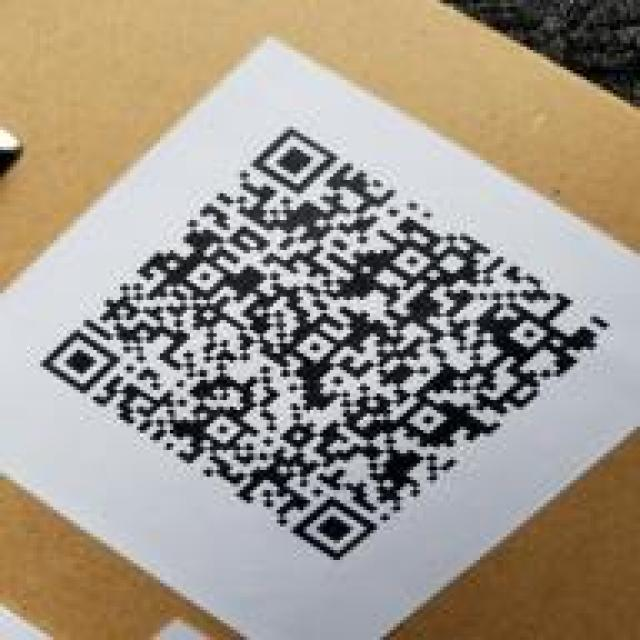QR_CODE: (25, 107, 623, 568)
